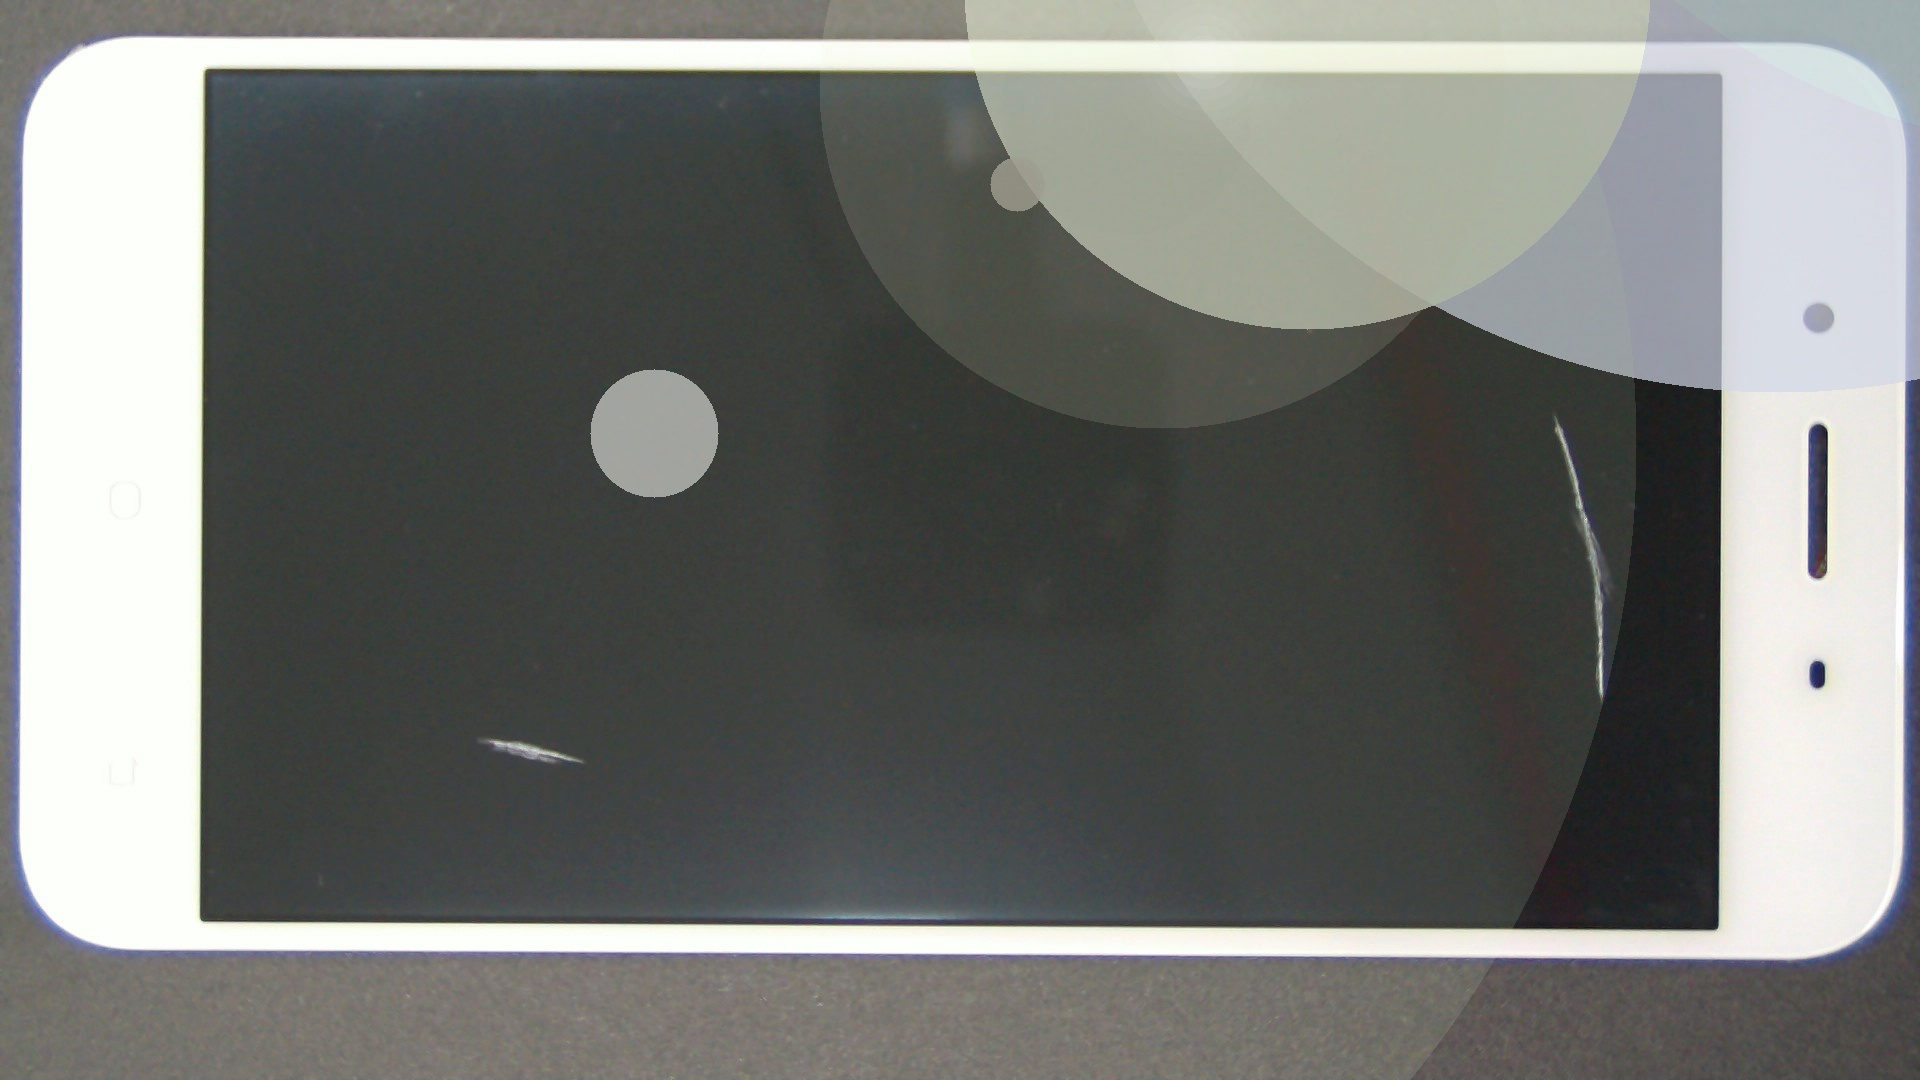oil: (778, 207, 1920, 625), (240, 367, 719, 1080)
